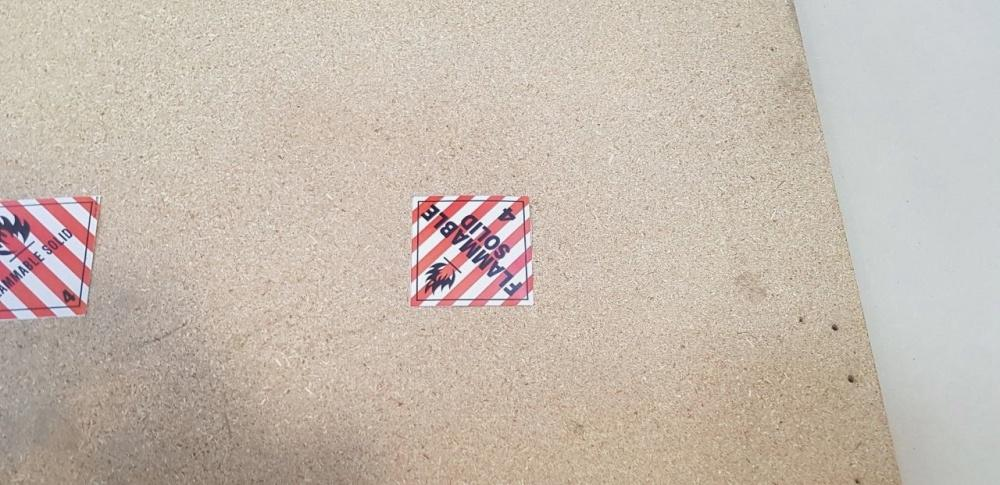flammable-solid: (411, 196, 534, 308), (1, 197, 101, 323)
